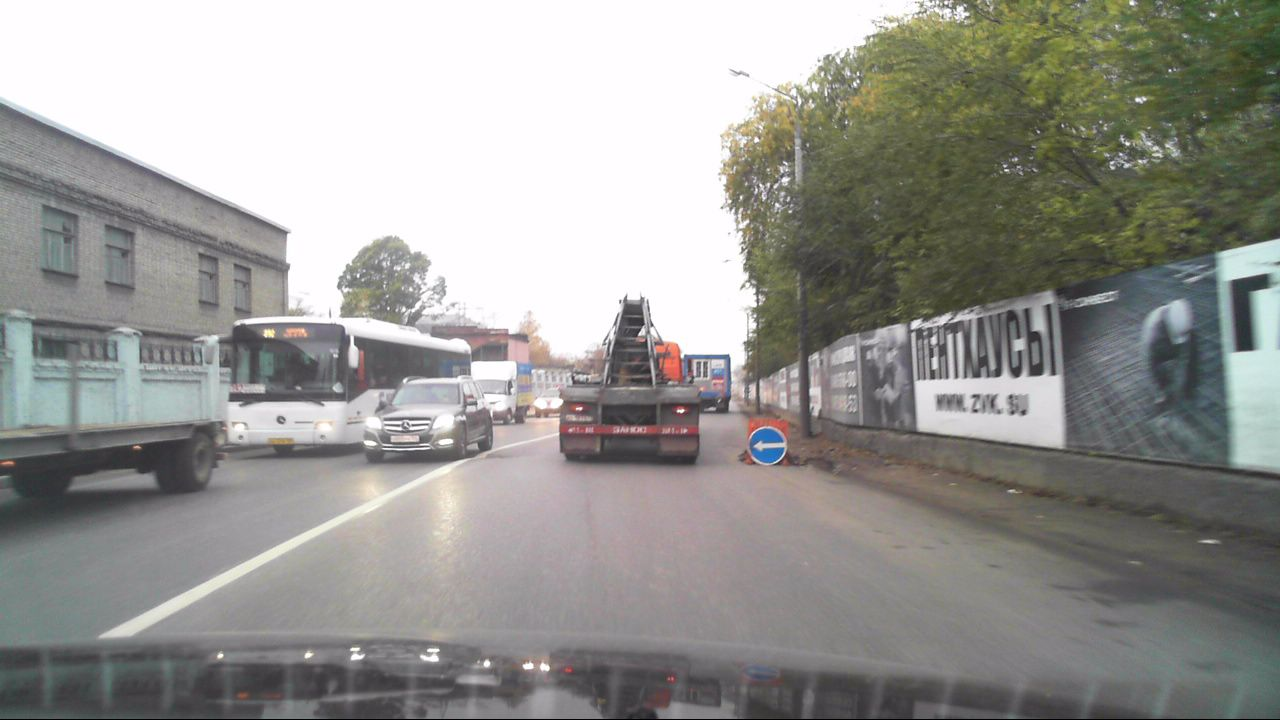Turn Left: (747, 426, 787, 465)
